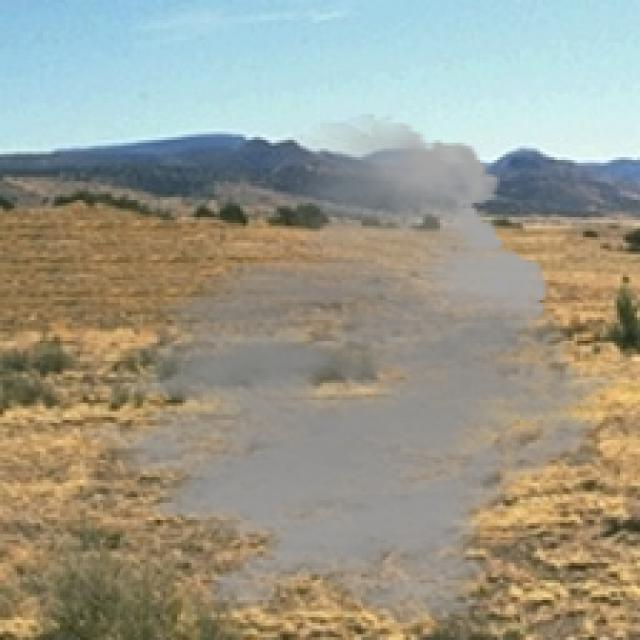smoke: (51, 114, 620, 629)
